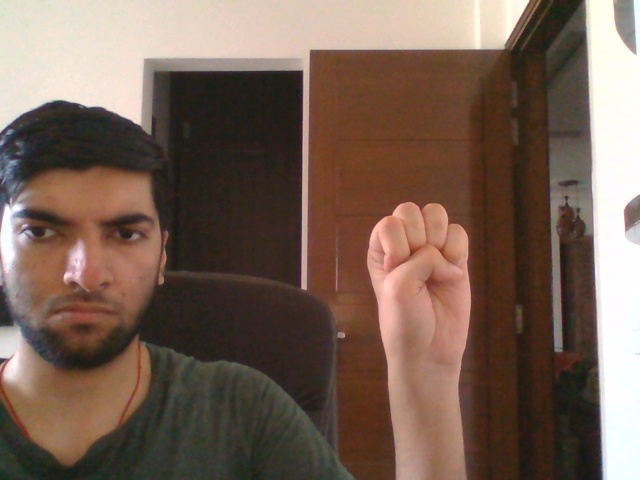LetterS: (363, 200, 473, 372)
